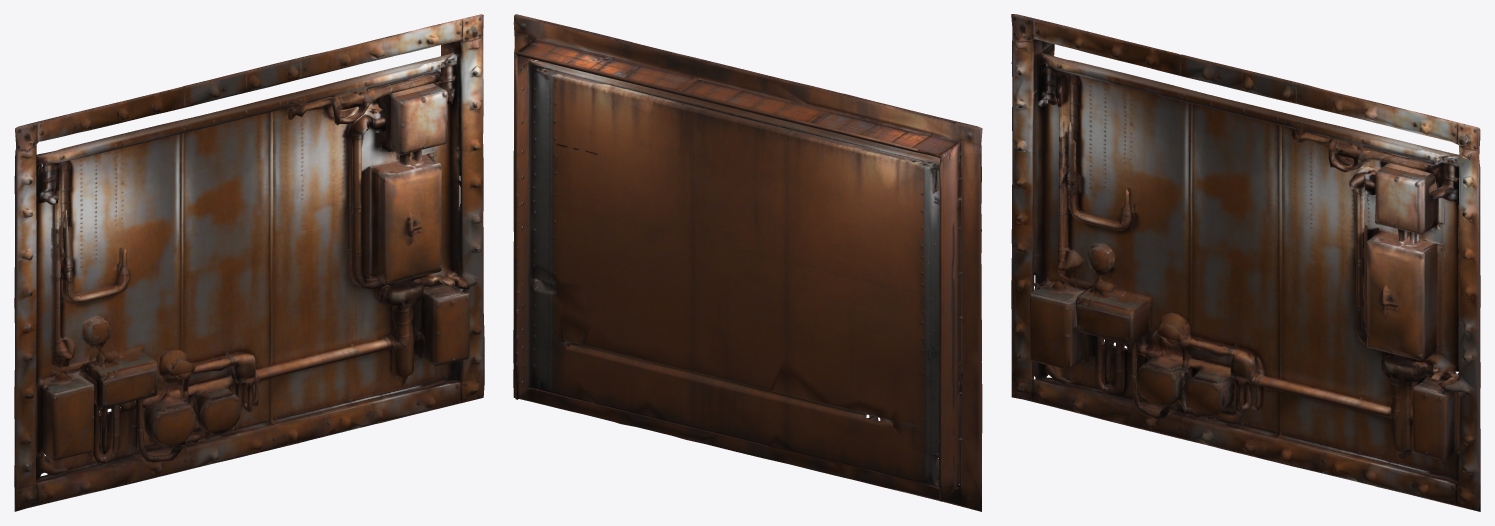
File: Wall02.glb
The picture shows the model from 3 angles, left to right: view 1: azimuth 30°, elevation 25°; view 2: azimuth 150°, elevation 25°; view 3: azimuth 330°, elevation 25°; orthographic projection.
Size of the model in its own units: 2.01 by 1.57 by 0.2492.
1 material, 1 textured.
